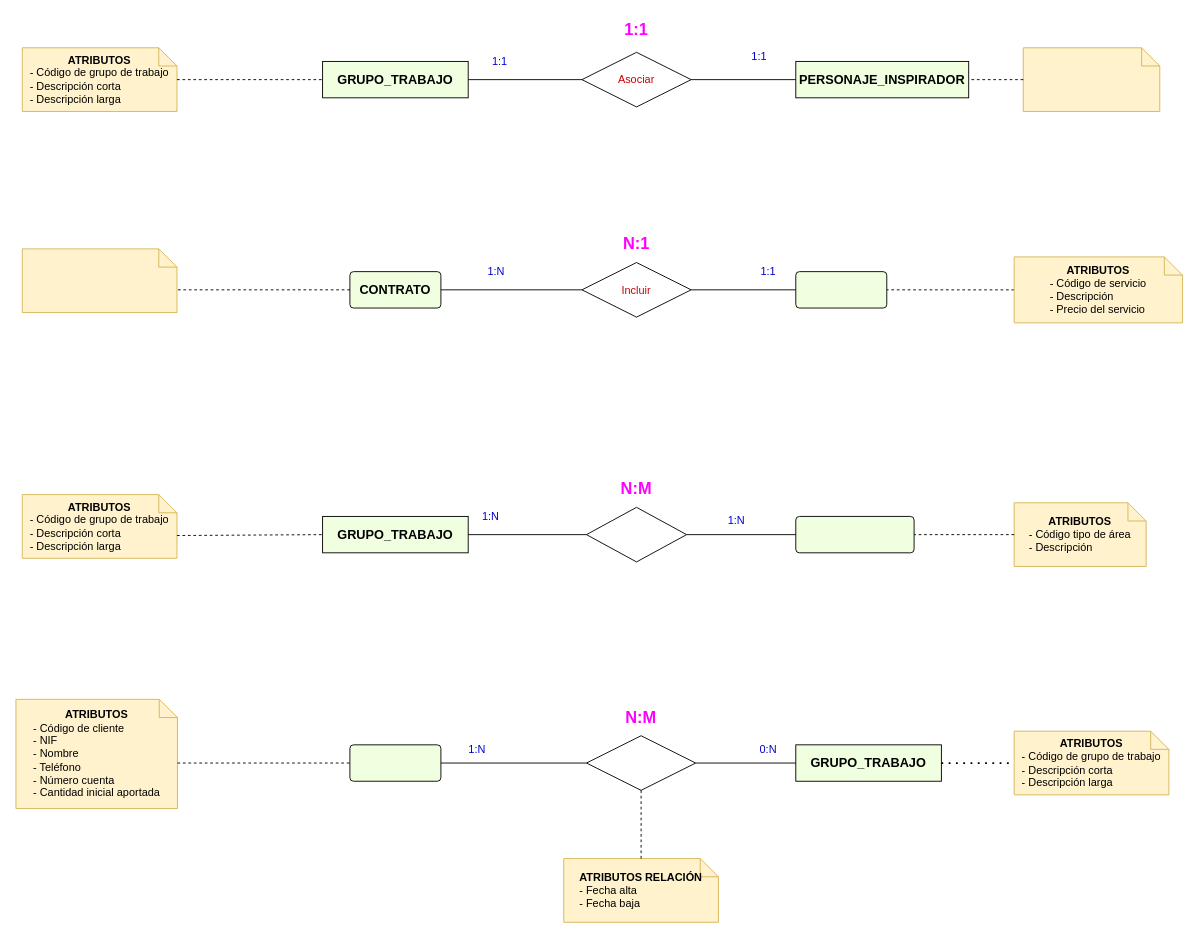
Some shapes in this 1198 by 938 pixel diagram are drawn without their labels. Each missing label, with the centre of its shape:
"AREA" goes at [854,534].
"ATRIBUTOS - Indicador cobra cada mes" goes at [99,280].
"ATRIBUTOS - Nombre - Indicador personaje real" goes at [1091,79].
"Involucrar" goes at [636,534].
"Participar" goes at [641,762].
"SERVICIO" goes at [841,289].
"SOCIO" goes at [395,762].
